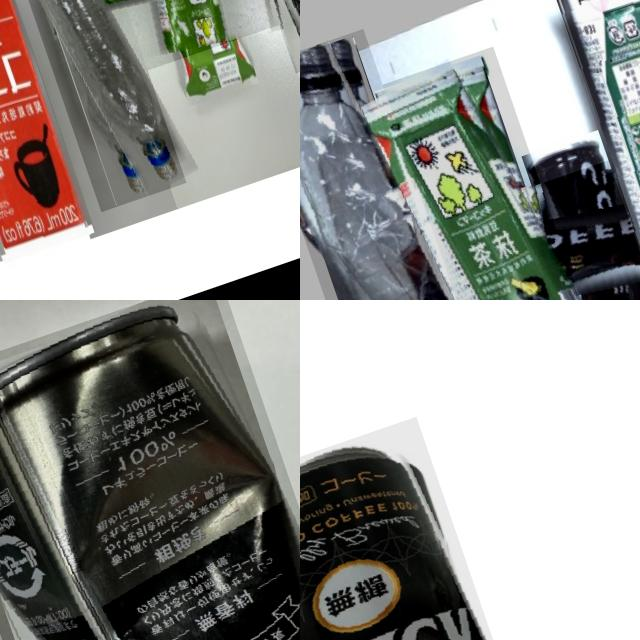Aluminium Foil: (357, 45, 607, 300), (539, 0, 640, 300), (0, 0, 94, 262), (55, 0, 296, 78)
Can: (0, 300, 300, 640), (300, 415, 530, 640), (492, 145, 640, 300)
Transparent Plastic Bottle: (300, 27, 495, 300), (0, 0, 185, 211)
